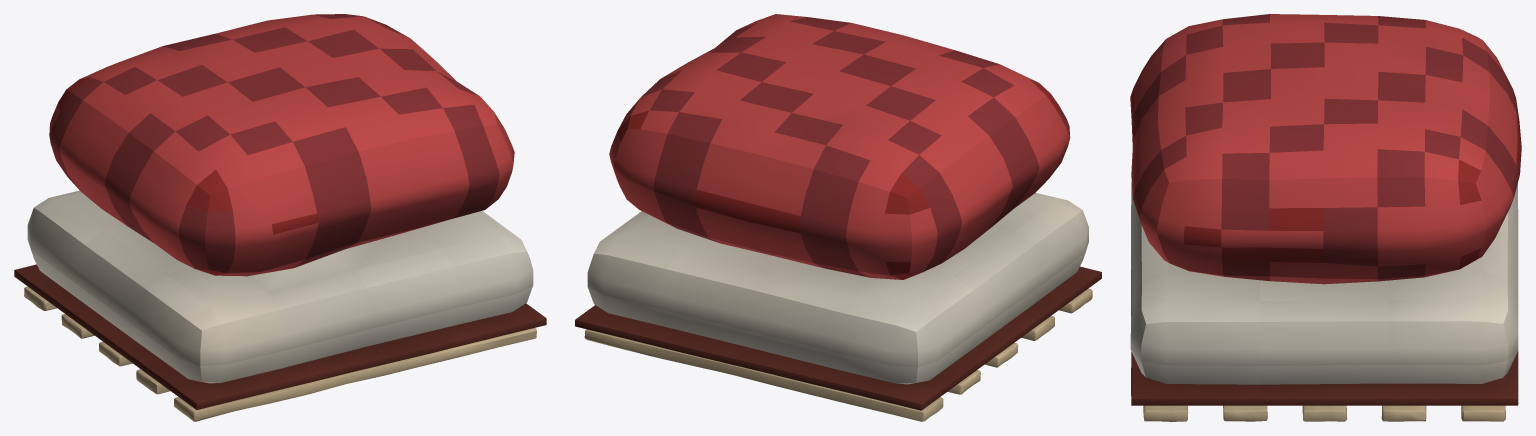
File: den_bed_body.glb
The picture shows the model from 3 angles, left to right: view 1: azimuth 30°, elevation 25°; view 2: azimuth 150°, elevation 25°; view 3: azimuth 270°, elevation 25°; orthographic projection. The views are drawn at different scales.
Parts seen in each view (by area): view 1: den_bed_body; view 2: den_bed_body; view 3: den_bed_body.
Boxes of the visible parts, x1=… form: den_bed_body: x1=14, y1=14, x2=546, y2=421; den_bed_body: x1=575, y1=14, x2=1101, y2=421; den_bed_body: x1=1130, y1=14, x2=1521, y2=421.
Size of the model in its own units: 31.7 by 21.31 by 28.32.
